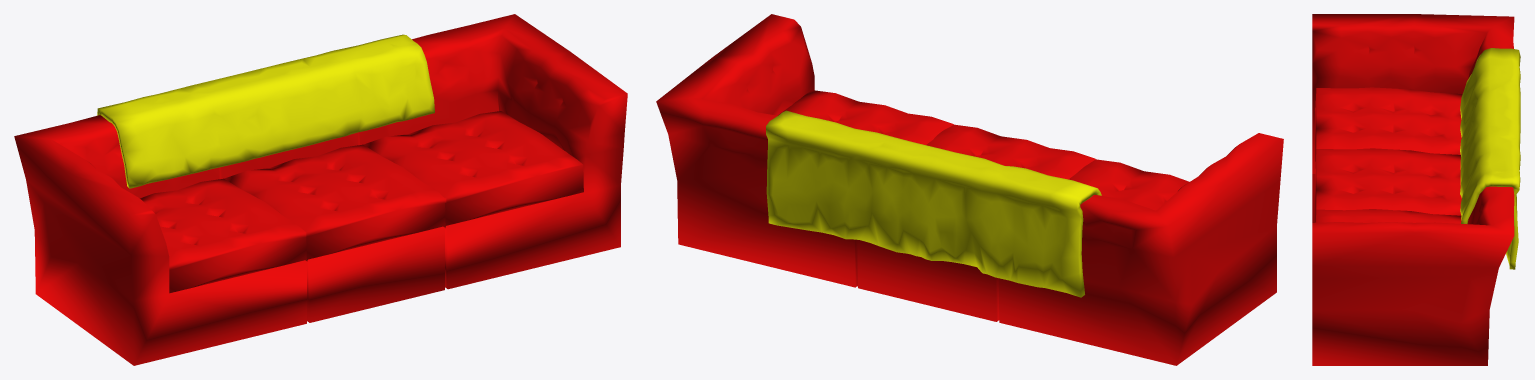
Rendered from sofas_grp.fbx.
3 views of the same model, side by side, from view 1: azimuth 30°, elevation 25°; view 2: azimuth 150°, elevation 25°; view 3: azimuth 270°, elevation 25° (orthographic). The views are drawn at different scales.
Visible parts, largest first — view 1: sofa_210, sofa_blanket_210; view 2: sofa_210, sofa_blanket_210; view 3: sofa_210, sofa_blanket_210.
Part boxes in pixels (x1,y1,x2,y2): sofa_210: [14, 14, 627, 365]; sofa_blanket_210: [97, 34, 434, 188]; sofa_210: [656, 14, 1283, 365]; sofa_blanket_210: [766, 110, 1101, 297]; sofa_210: [1312, 14, 1514, 365]; sofa_blanket_210: [1460, 48, 1520, 269].
Size of the model in its own units: 269 by 80.32 by 108.
